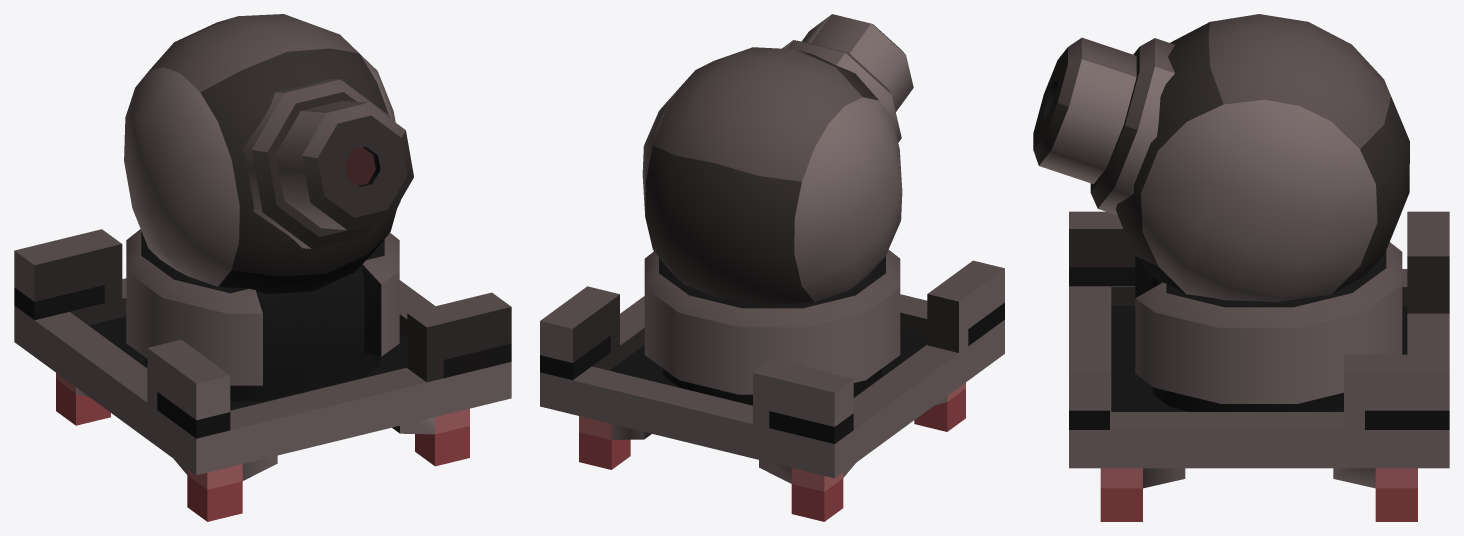
The model's file is PipeRunnerMesh.NoireEclipse.glb.
3 views of the same model, side by side, from view 1: azimuth 30°, elevation 25°; view 2: azimuth 150°, elevation 25°; view 3: azimuth 270°, elevation 25° (orthographic). The views are drawn at different scales.
Visible parts, largest first — view 1: PipeRunnerMesh.NoireEclipse; view 2: PipeRunnerMesh.NoireEclipse; view 3: PipeRunnerMesh.NoireEclipse.
Part boxes in pixels (x1,y1,x2,y2): PipeRunnerMesh.NoireEclipse: (14, 14, 511, 521); PipeRunnerMesh.NoireEclipse: (540, 14, 1004, 521); PipeRunnerMesh.NoireEclipse: (1033, 14, 1449, 521).
Bounding box in the file's own units: 1.8 × 2.23 × 1.97.
Materials: 1 (1 with a texture image).
